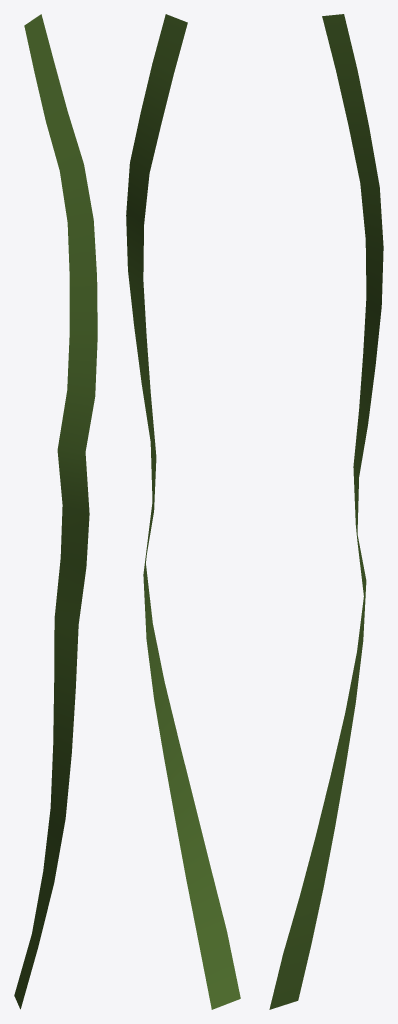
The model's file is plant_swamp_kelp_long_solo_X.fbx.
The picture shows the model from 3 angles, left to right: view 1: azimuth 30°, elevation 25°; view 2: azimuth 150°, elevation 25°; view 3: azimuth 330°, elevation 25°; orthographic projection. The views are drawn at different scales.
Visible parts, largest first — view 1: plant_swamp_kelp_long_solo_X; view 2: plant_swamp_kelp_long_solo_X; view 3: plant_swamp_kelp_long_solo_X.
Part boxes in pixels (x1=…): plant_swamp_kelp_long_solo_X: x1=14, y1=14, x2=97, y2=1009; plant_swamp_kelp_long_solo_X: x1=126, y1=14, x2=240, y2=1009; plant_swamp_kelp_long_solo_X: x1=269, y1=14, x2=383, y2=1009.
Size of the model in its own units: 18.56 by 184 by 10.69.
